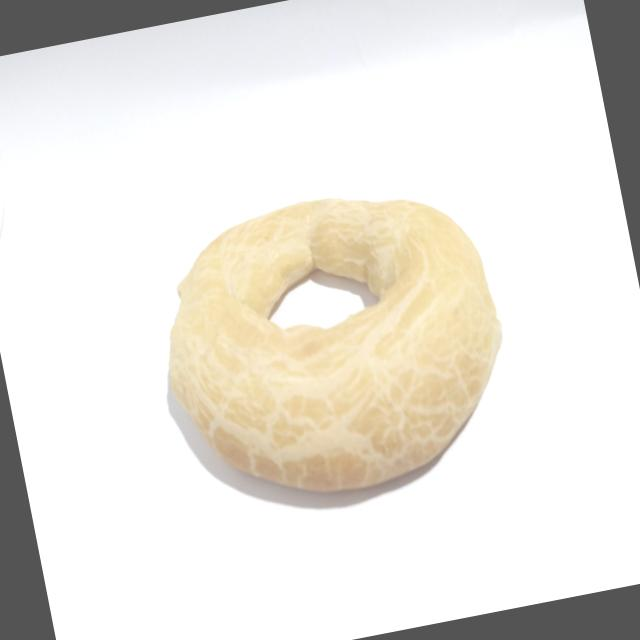Chipa: (133, 155, 540, 538)
